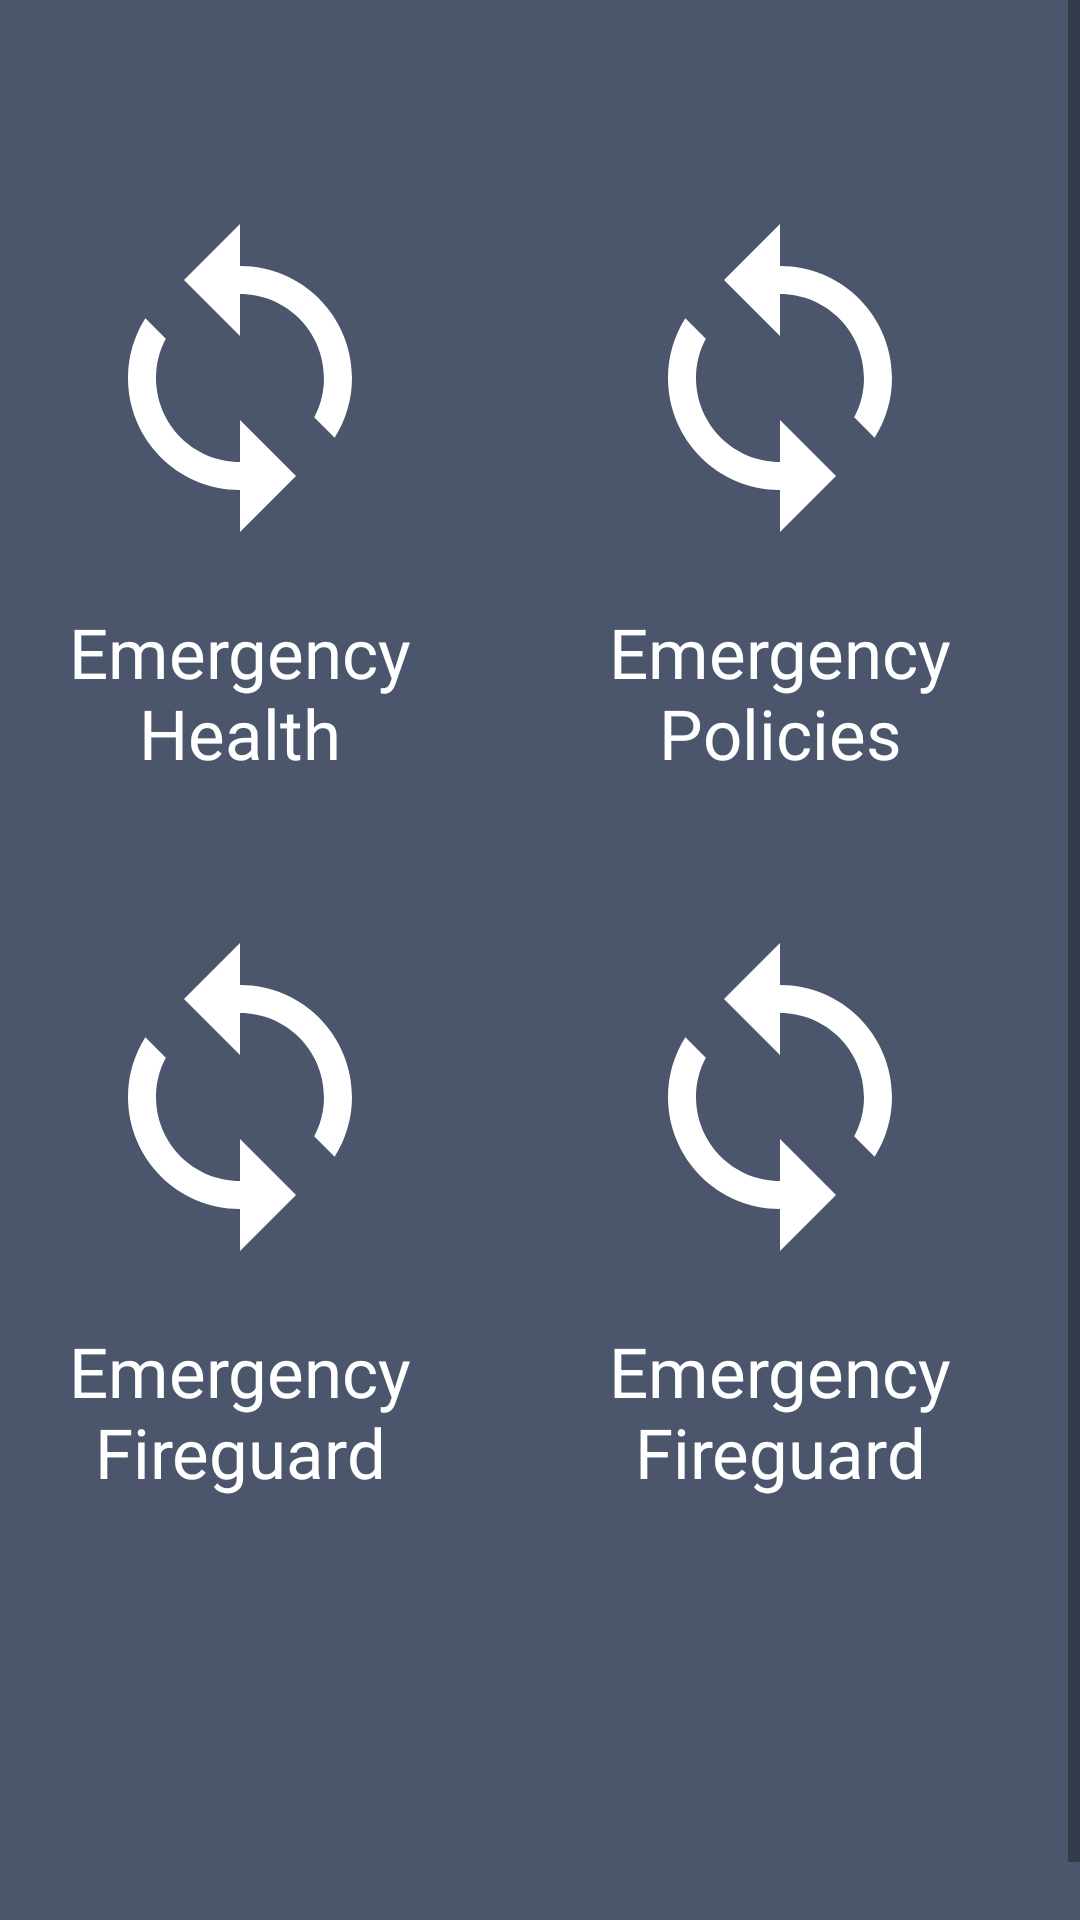

Icon click points for this 1080x1920 phone screenshot, format (x=x, y=y):
sync: (x=240, y=378), (x=780, y=378), (x=240, y=1097), (x=780, y=1097)
